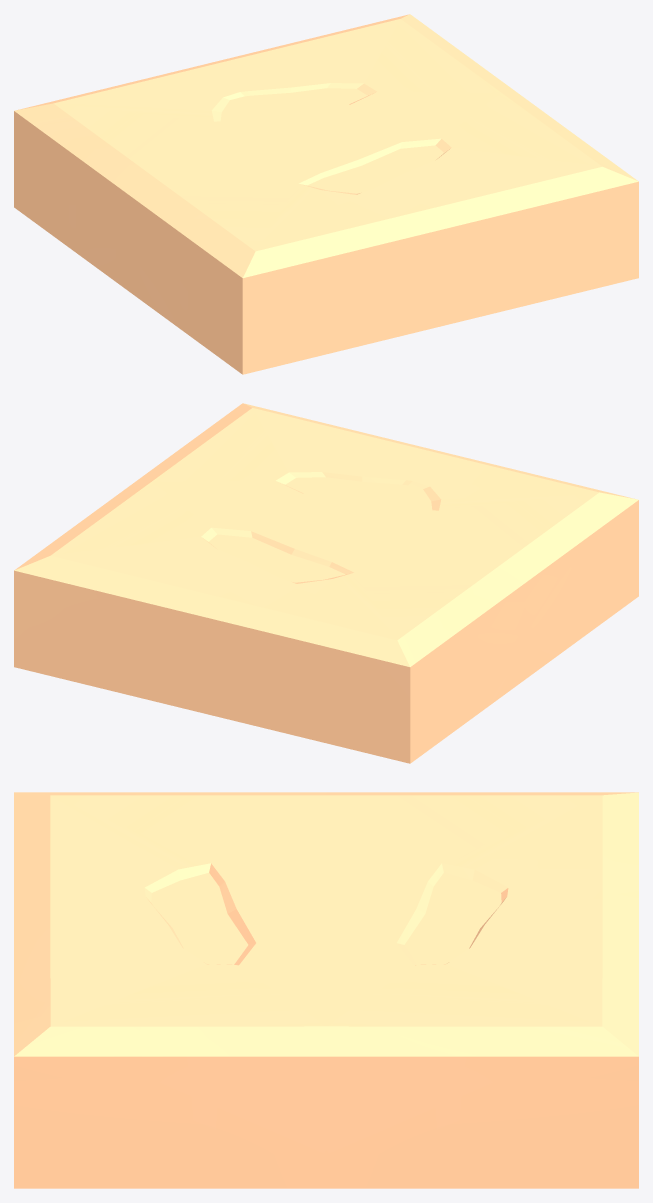
Rendered from lvl1_T_switch1.glb.
3 renders of one model, top to bottom at view 1: azimuth 30°, elevation 25°; view 2: azimuth 150°, elevation 25°; view 3: azimuth 270°, elevation 25°, orthographic. The views are drawn at different scales.
Parts seen in each view (by area): view 1: lvl1_t_switch1; view 2: lvl1_t_switch1; view 3: lvl1_t_switch1.
Part boxes in pixels (x1,y1,x2,y2): lvl1_t_switch1: [14, 14, 638, 374]; lvl1_t_switch1: [14, 403, 638, 763]; lvl1_t_switch1: [14, 792, 638, 1188].
Bounding box in the file's own units: 0.8719 × 0.2256 × 0.8719.
1 material, 1 textured.
